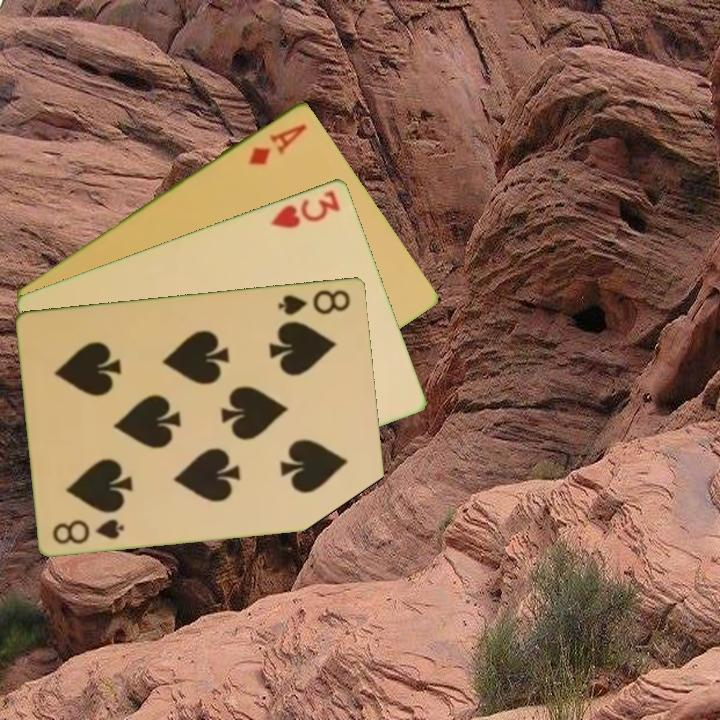3h: (267, 186, 343, 231)
8s: (49, 514, 128, 547), (275, 285, 353, 318)
Ad: (245, 120, 311, 168)
